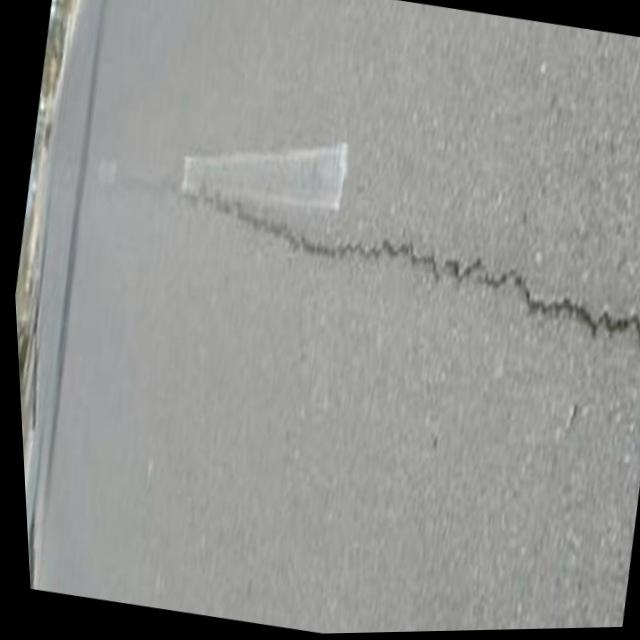Crack: (340, 222, 640, 398)
